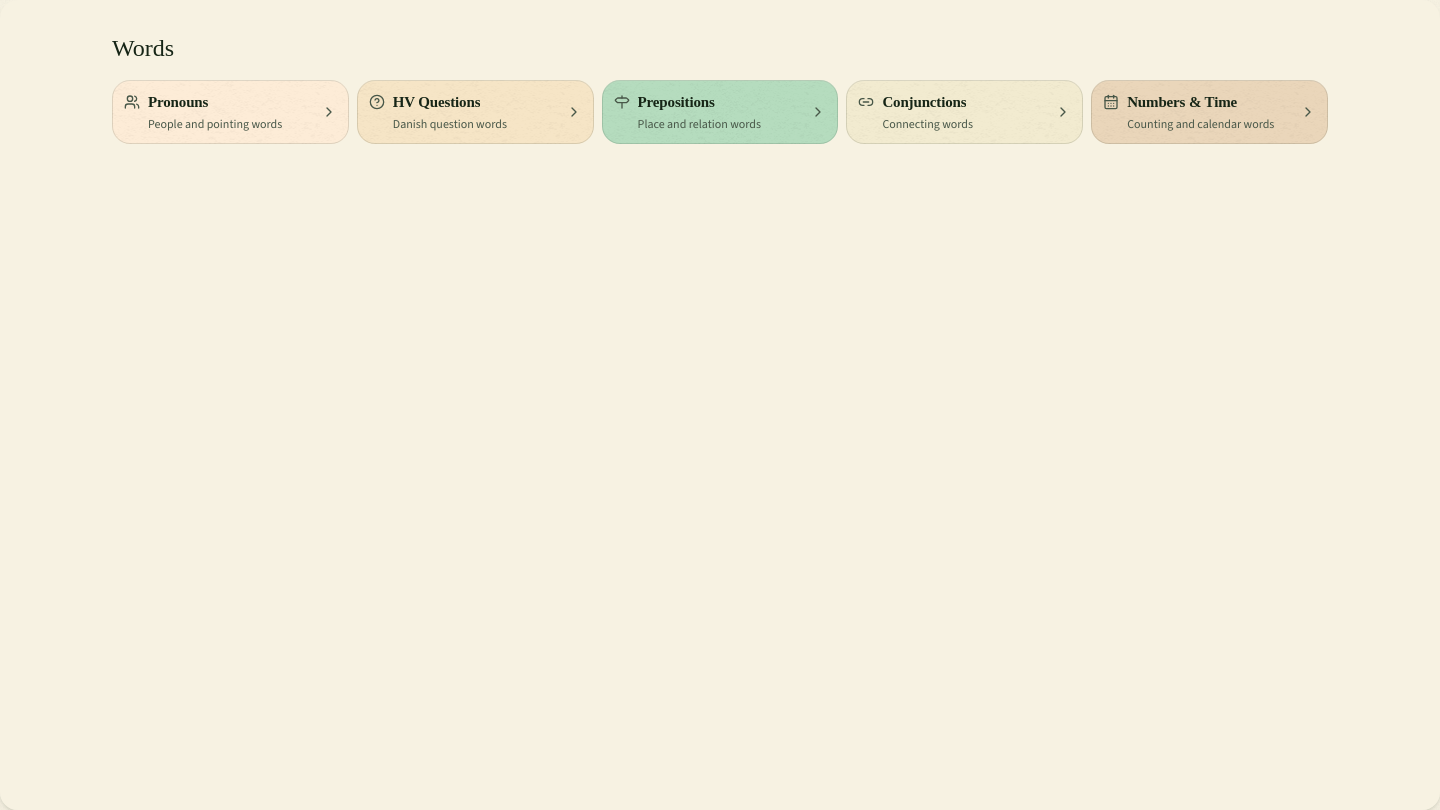
Test: App wordbank word-page parity › renders the Danish lemma once in the specimen hero for built-in words
Click the button with aria-label "open hv questions reference" at (475, 112), box [357,80,594,144]
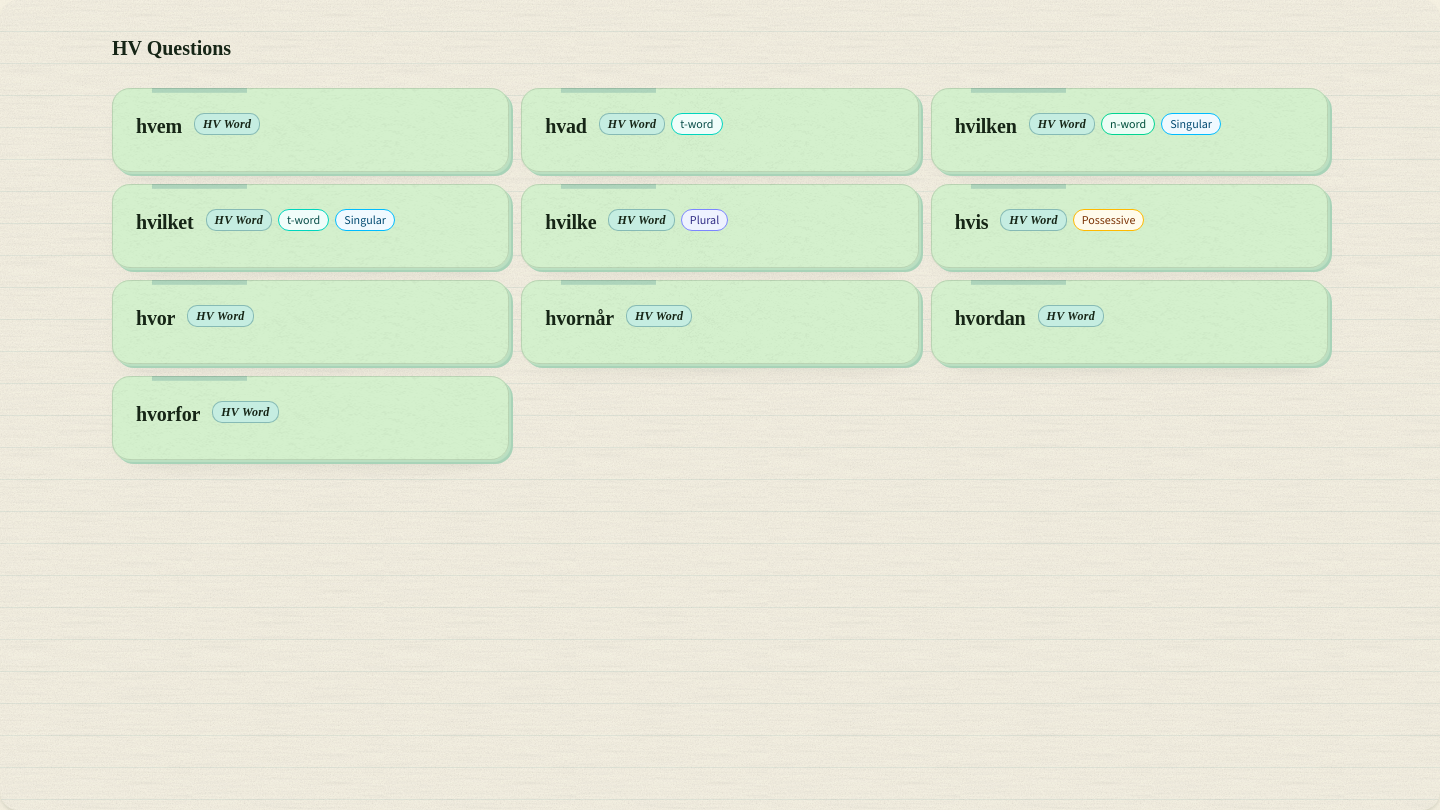
Click the button with aria-label "open hvor in wordbank" at (156, 318), box [112,280,509,364]
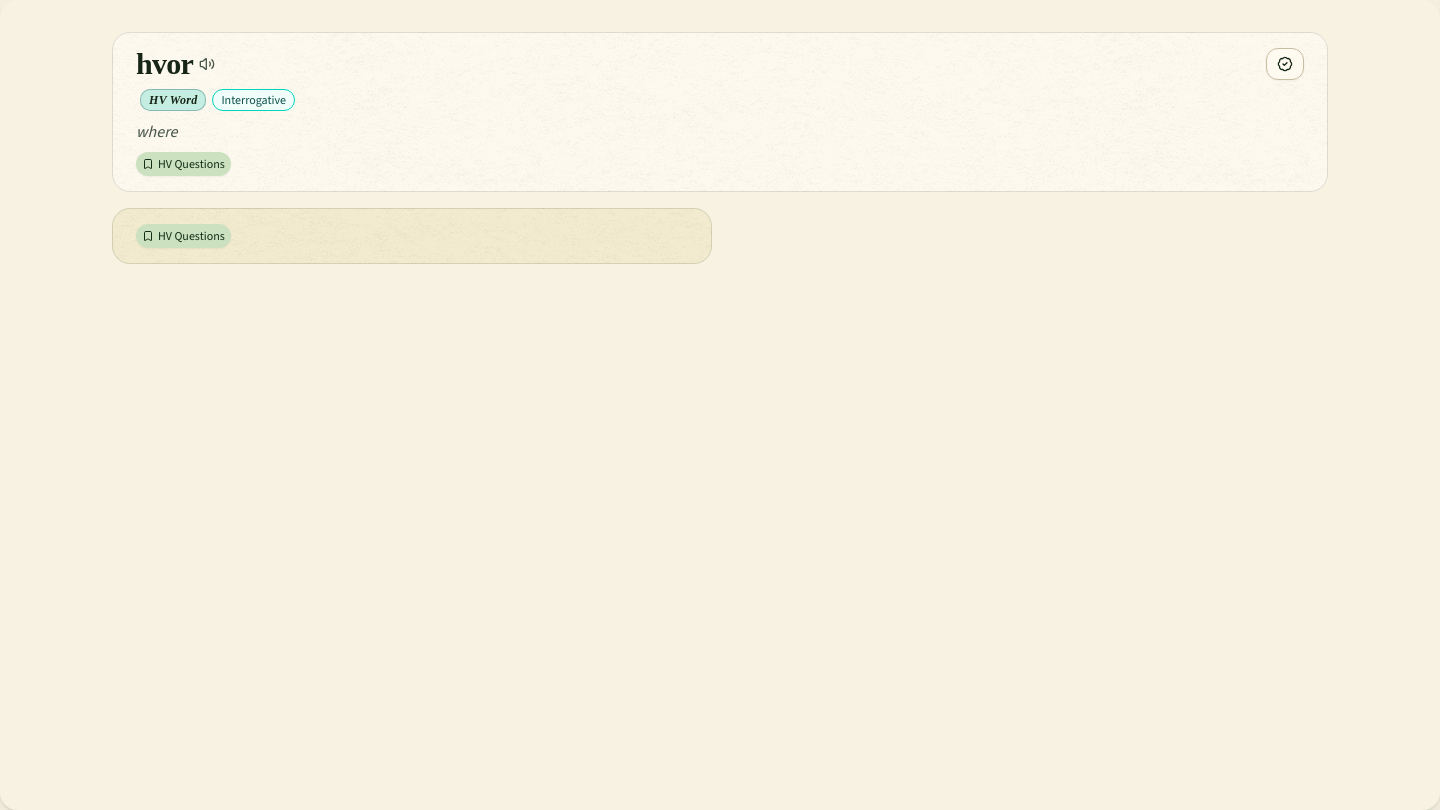
Now the heading "hvor" is shown, box [136,48,219,80]
Now the element "hvor HV Word Interrogative where HV Questions" is shown, box [112,32,1328,192]
